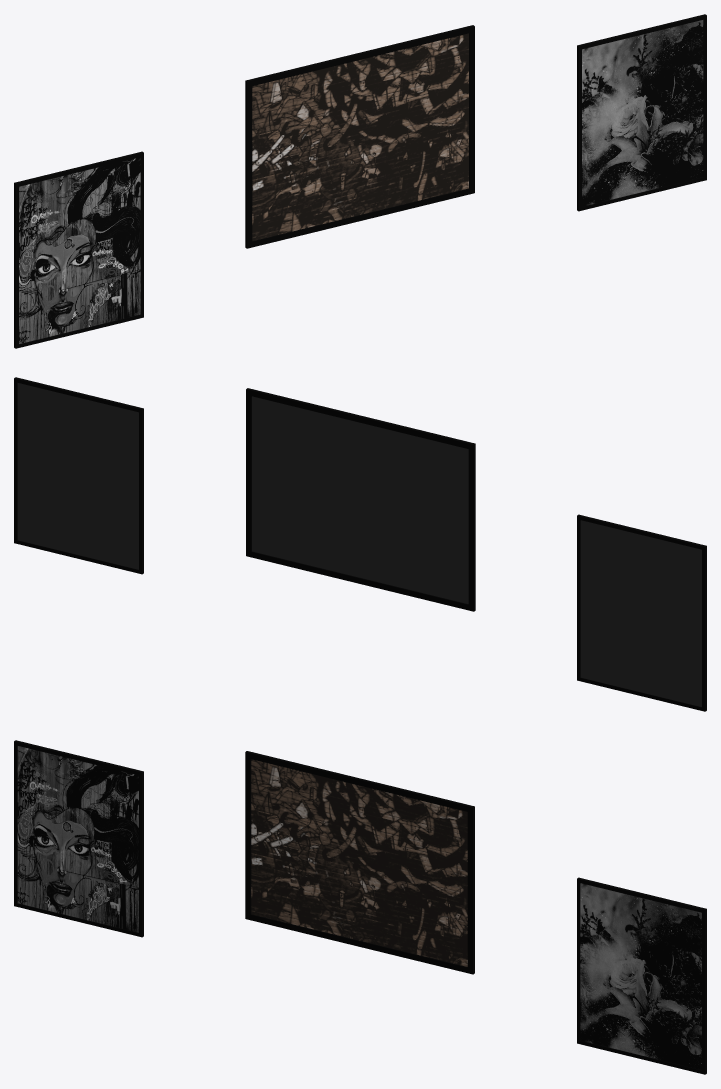
Rendered from framethree.glb.
3 renders of one model, top to bottom at view 1: azimuth 30°, elevation 25°; view 2: azimuth 150°, elevation 25°; view 3: azimuth 330°, elevation 25°, orthographic.
Parts seen in each view (by area): view 1: Frame_Middle_Frames_Version_04_0, Frame_Left_Frames_Version_04_0, Frame_Right_Frames_Version_04_0; view 2: Frame_Middle_Frames_Version_04_0, Frame_Left_Frames_Version_04_0, Frame_Right_Frames_Version_04_0; view 3: Frame_Middle_Frames_Version_04_0, Frame_Left_Frames_Version_04_0, Frame_Right_Frames_Version_04_0.
Boxes of the visible parts, x1,y1,x2,y2 form: Frame_Middle_Frames_Version_04_0: [245, 25, 474, 248]; Frame_Left_Frames_Version_04_0: [14, 151, 143, 348]; Frame_Right_Frames_Version_04_0: [577, 14, 706, 211]; Frame_Middle_Frames_Version_04_0: [246, 388, 475, 611]; Frame_Left_Frames_Version_04_0: [577, 514, 706, 711]; Frame_Right_Frames_Version_04_0: [14, 377, 143, 574]; Frame_Middle_Frames_Version_04_0: [245, 751, 474, 974]; Frame_Left_Frames_Version_04_0: [14, 740, 143, 937]; Frame_Right_Frames_Version_04_0: [577, 877, 706, 1074].
Size of the model in its own units: 406 by 118 by 1.71.
Materials: 1 (1 with a texture image).
